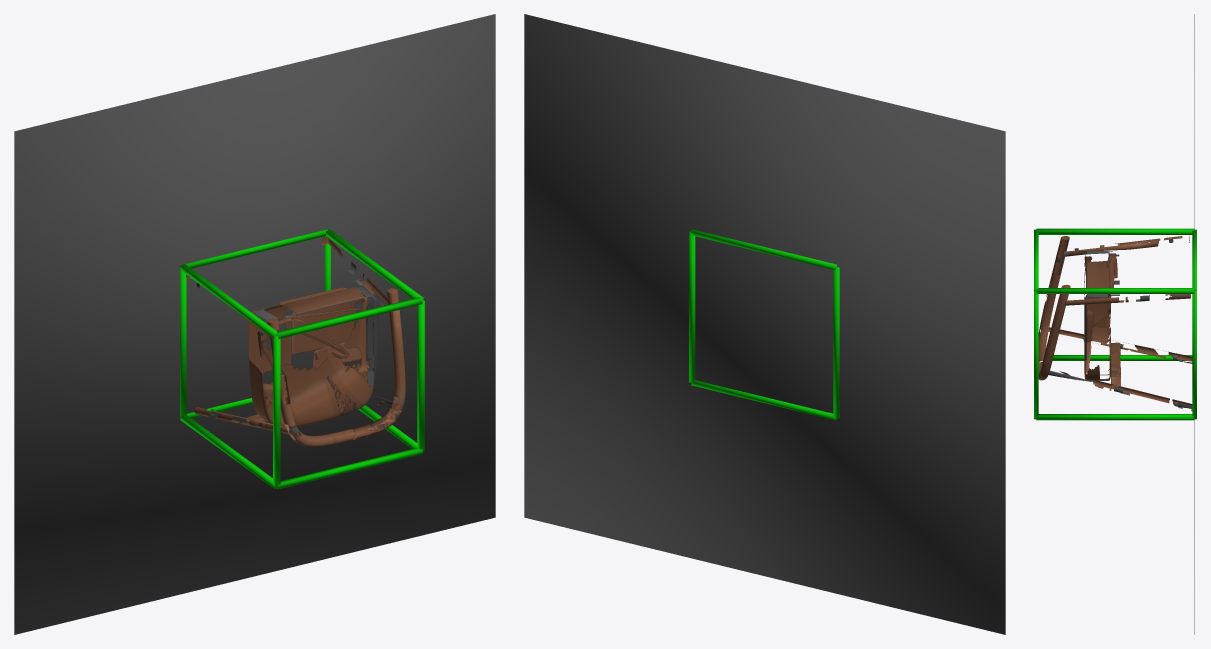
3 renders of one model, left to right at view 1: azimuth 30°, elevation 25°; view 2: azimuth 150°, elevation 25°; view 3: azimuth 270°, elevation 25°, orthographic. The views are drawn at different scales.
Size of the model in its own units: 2 by 2 by 0.6966.
